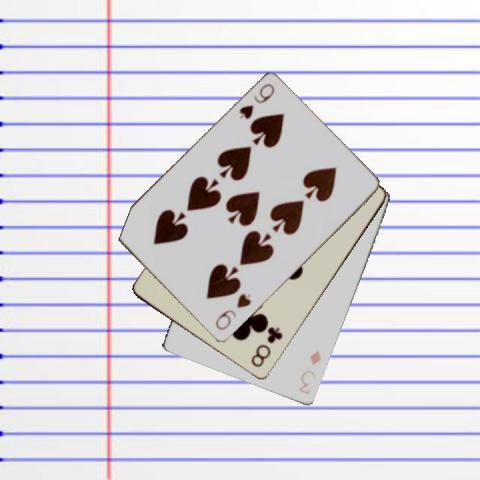3d: (295, 348, 323, 396)
8c: (248, 325, 285, 369)
9s: (212, 290, 253, 332), (236, 81, 276, 121)
